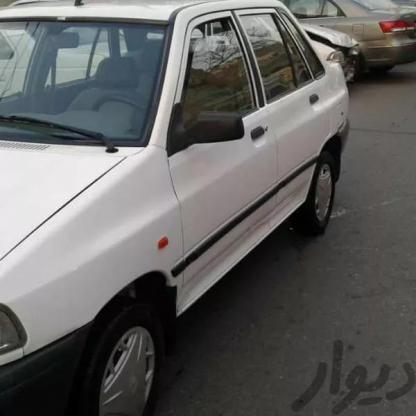Car: (0, 0, 363, 416), (245, 0, 416, 83)
